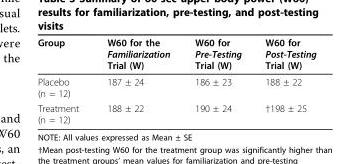table: (36, 36, 315, 124)
table column: (92, 36, 181, 124), (181, 36, 252, 124), (252, 36, 315, 124), (36, 36, 92, 124)
table column header: (36, 36, 315, 73)
table row: (36, 36, 315, 73), (36, 73, 315, 100), (36, 100, 315, 124)
